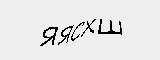С: (70, 17, 85, 44)
Х: (81, 15, 96, 44)
Ш: (97, 18, 125, 37)
Я: (36, 24, 57, 51), (56, 23, 73, 47)
